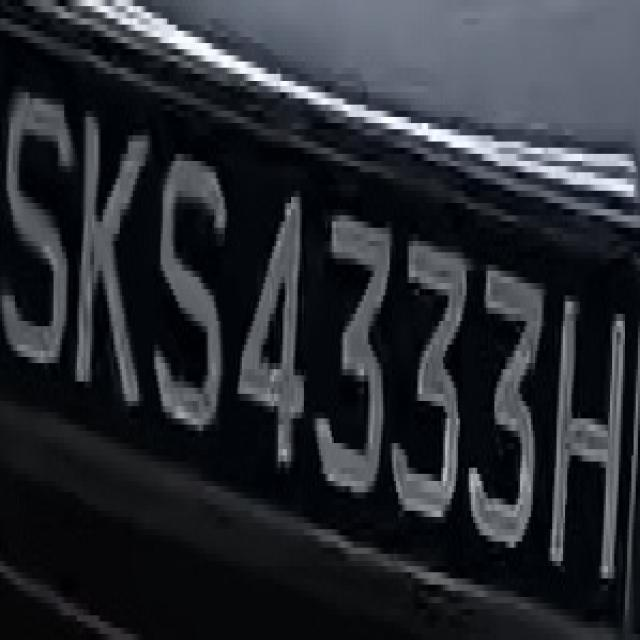3: (468, 246, 544, 585), (319, 172, 396, 505), (396, 209, 473, 529)
4: (229, 123, 310, 499)
H: (548, 264, 627, 584)
K: (70, 92, 150, 450)
S: (158, 104, 229, 456), (2, 49, 66, 406)
